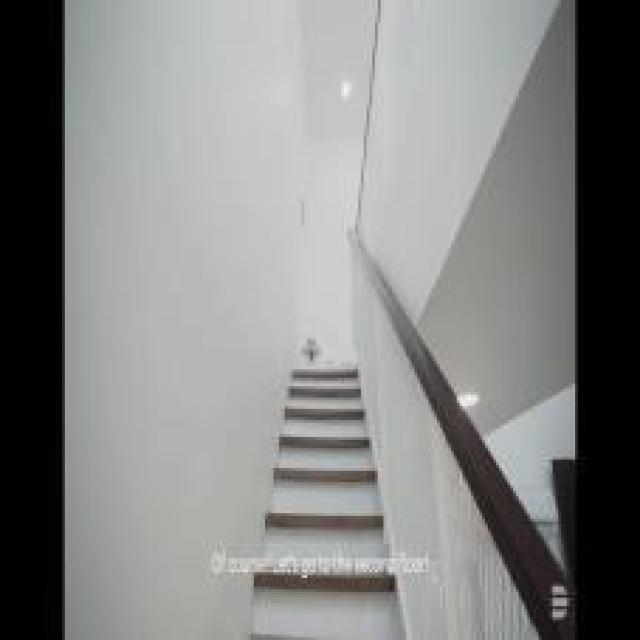upstair: (266, 345, 384, 638)
